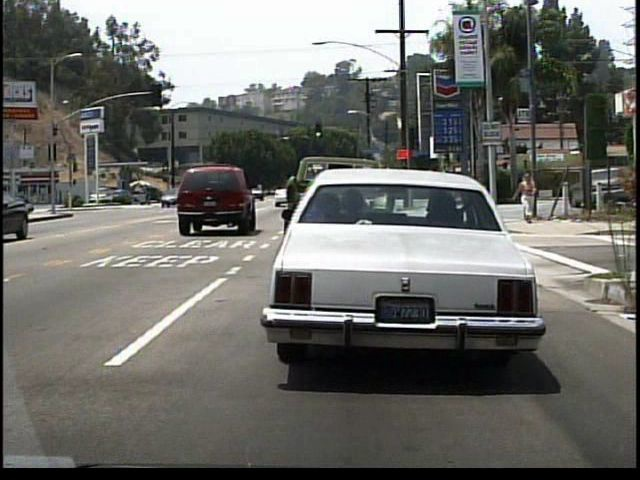person: (517, 170, 540, 226)
